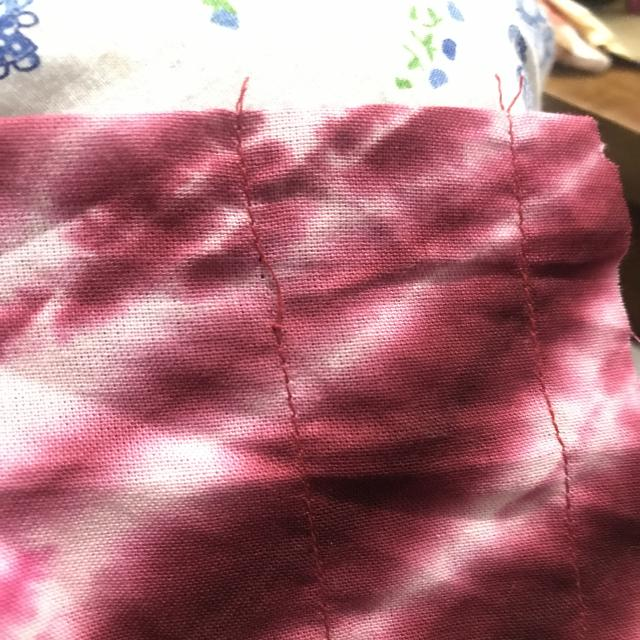good: (270, 371, 316, 423)
skip: (235, 242, 307, 354)
